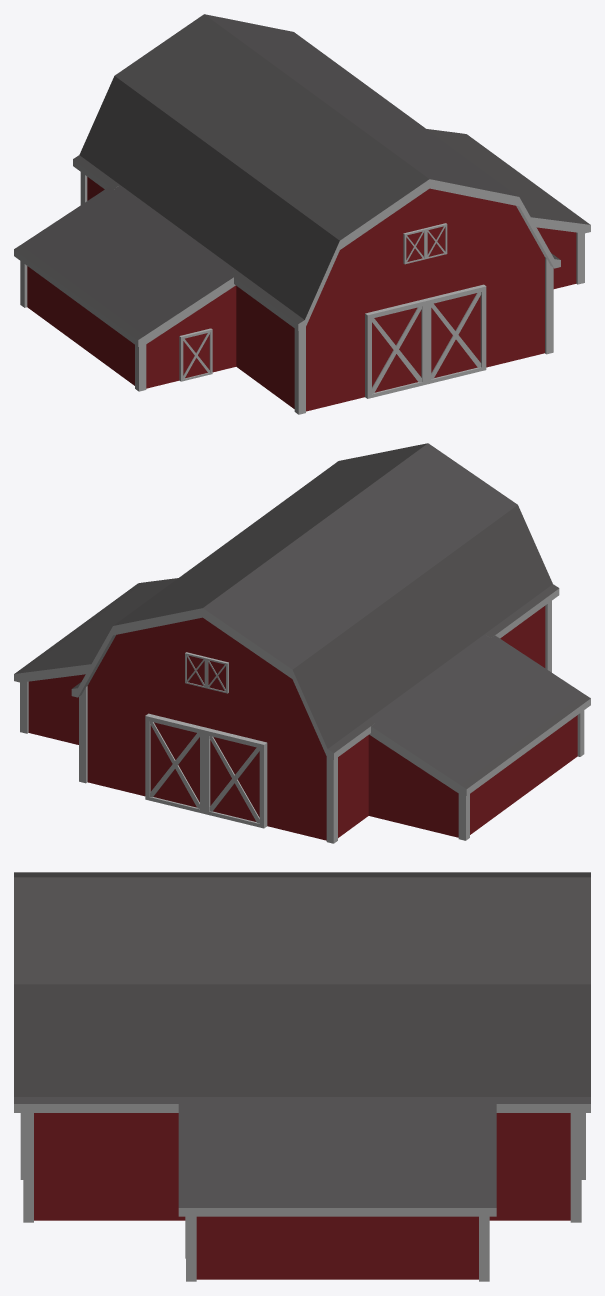
The model's file is Boerderij_AlexBlok_LOD.fbx.
3 renders of one model, top to bottom at view 1: azimuth 30°, elevation 25°; view 2: azimuth 150°, elevation 25°; view 3: azimuth 270°, elevation 25°, orthographic. The views are drawn at different scales.
Visible parts, largest first — view 1: BoerderijAlexBlok_LOD0; view 2: BoerderijAlexBlok_LOD0; view 3: BoerderijAlexBlok_LOD0.
Boxes of the visible parts, x1,y1,x2,y2 form: BoerderijAlexBlok_LOD0: (14, 14, 590, 414); BoerderijAlexBlok_LOD0: (14, 443, 590, 843); BoerderijAlexBlok_LOD0: (14, 872, 590, 1281).
Size of what is drawn, in the model's own units: 1448 by 634 by 1249.
